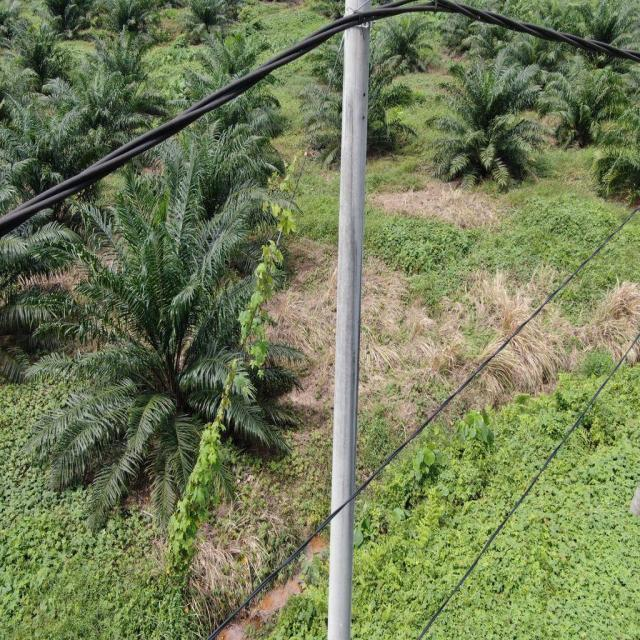critical vegetation: (166, 143, 310, 602)
